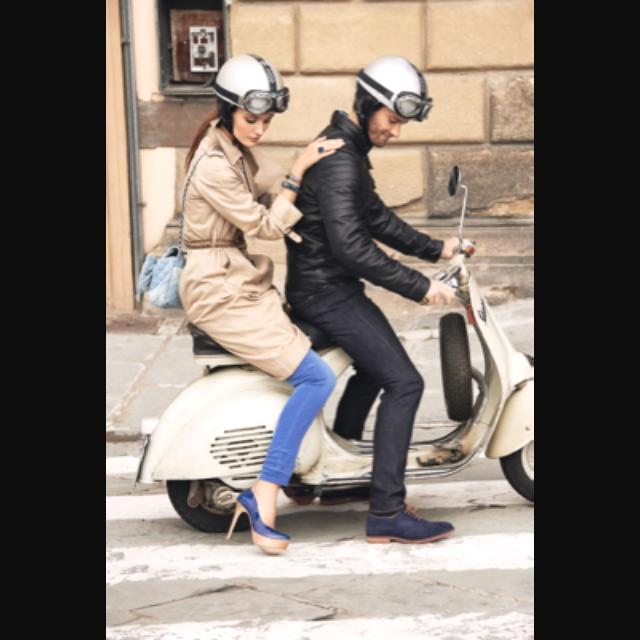With Helmet: (352, 45, 434, 149)
